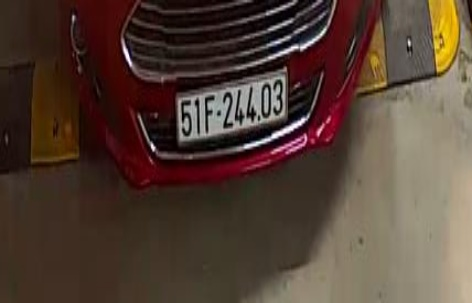plate: (169, 68, 287, 142)
